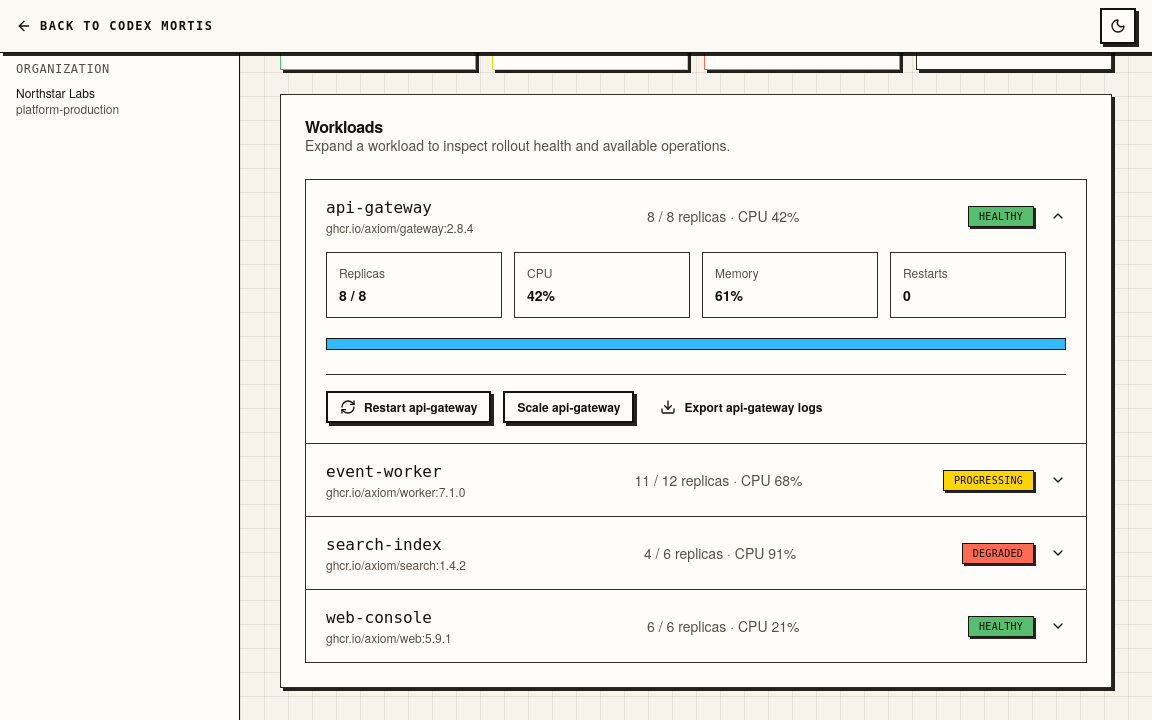
Test: Codex Mortis showcase › places workload details and per-object controls inside an accordion
(page scrolled)
Check: the button "Scale api-gateway" is shown, box [503,391,634,423]
Click the button named "event-workerghcr.io" at (696, 480), box [306,444,1086,516]
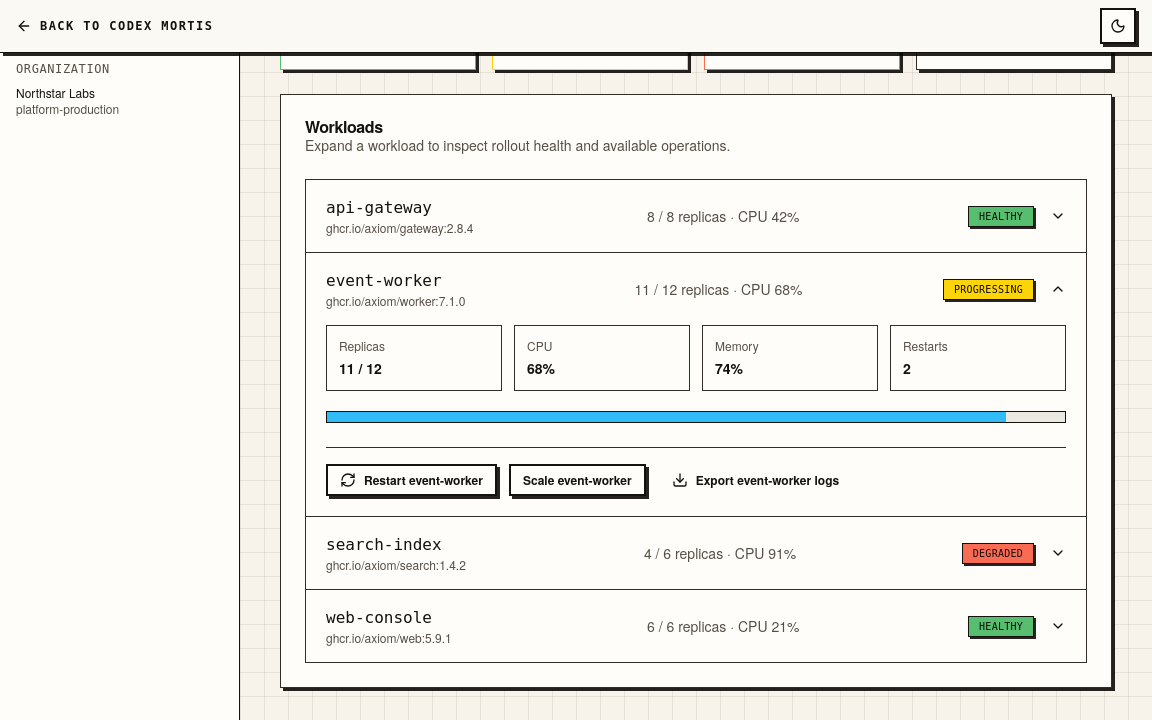
Check: the button named "event-workerghcr.io" is expanded, box [306,253,1086,325]
Check: the button "Restart event-worker" is shown, box [326,464,497,496]
